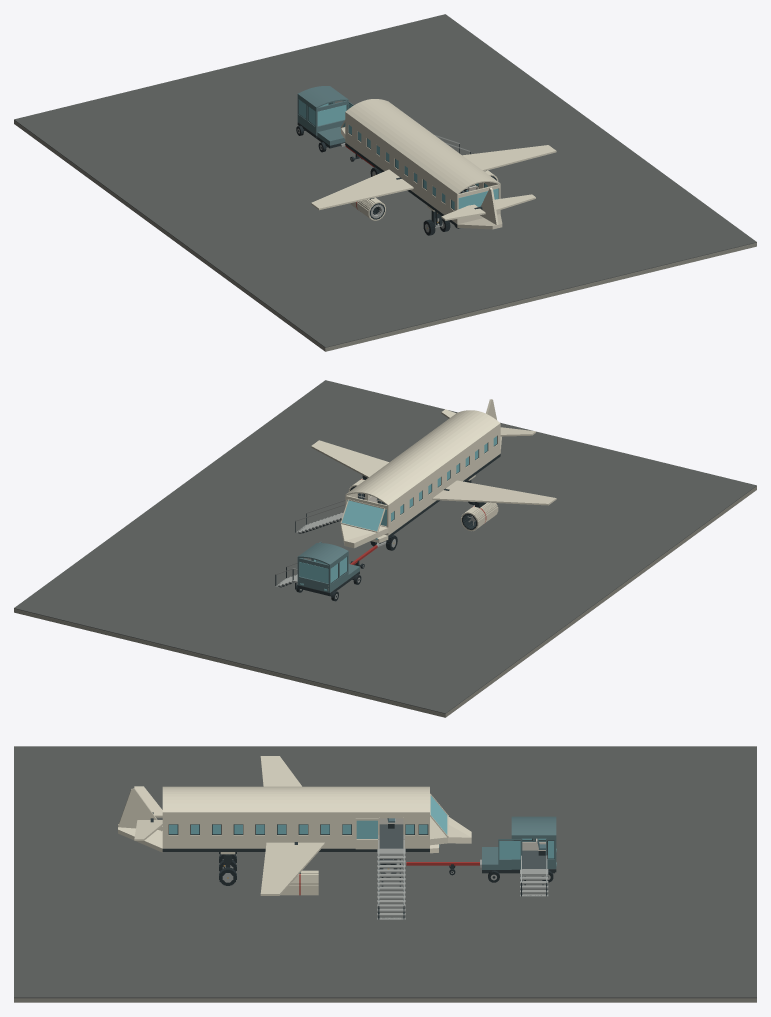
Rendered from visual-far.glb.
3 views of the same model, one above another, from view 1: azimuth 30°, elevation 25°; view 2: azimuth 150°, elevation 25°; view 3: azimuth 270°, elevation 25° (orthographic). The views are drawn at different scales.
Visible parts, largest first — view 1: 石铺面与混凝土承板, 独立乘舱壳、真实窗封和常开侧舱口 (×2), 连续后掠翼及薄翼缘 (×2), 连续收尖机鼻、尾锥和实体垂尾, 牵引车低重心车架、四个独立轮胎和后配重; view 2: 石铺面与混凝土承板, 独立乘舱壳、真实窗封和常开侧舱口 (×2), 连续后掠翼及薄翼缘, 连续收尖机鼻、尾锥和实体垂尾, 公共客机发动机/推力体组件; view 3: 石铺面与混凝土承板, 独立乘舱壳、真实窗封和常开侧舱口 (×2), 连续后掠翼及薄翼缘 (×2), 可登离实体踏步与连续金属梯梁 (×2), 连续收尖机鼻、尾锥和实体垂尾, 牵引车低重心车架、四个独立轮胎和后配重, 公共客机发动机/推力体组件, 公共客机起落架与轮组.
Boxes of the visible parts, x1,y1,x2,y2 form: 石铺面与混凝土承板: (14, 14, 756, 351); 独立乘舱壳、真实窗封和常开侧舱口 (×2): (297, 86, 500, 226); 连续后掠翼及薄翼缘 (×2): (311, 145, 556, 220); 连续收尖机鼻、尾锥和实体垂尾: (340, 120, 502, 229); 牵引车低重心车架、四个独立轮胎和后配重: (296, 125, 345, 152); 石铺面与混凝土承板: (14, 380, 756, 717); 独立乘舱壳、真实窗封和常开侧舱口 (×2): (297, 410, 500, 595); 连续后掠翼及薄翼缘: (311, 440, 556, 505); 连续收尖机鼻、尾锥和实体垂尾: (340, 399, 501, 548); 公共客机发动机/推力体组件: (461, 502, 498, 531); 石铺面与混凝土承板: (14, 746, 756, 1002); 独立乘舱壳、真实窗封和常开侧舱口 (×2): (162, 786, 556, 872); 连续后掠翼及薄翼缘 (×2): (134, 756, 325, 895); 可登离实体踏步与连续金属梯梁 (×2): (377, 834, 548, 919); 连续收尖机鼻、尾锥和实体垂尾: (118, 788, 471, 852); 牵引车低重心车架、四个独立轮胎和后配重: (480, 847, 556, 882); 公共客机发动机/推力体组件: (280, 870, 318, 895); 公共客机起落架与轮组: (219, 852, 236, 885).
Bounding box in the file's own units: 40 × 6.61 × 50.
21 materials, 21 textured.
